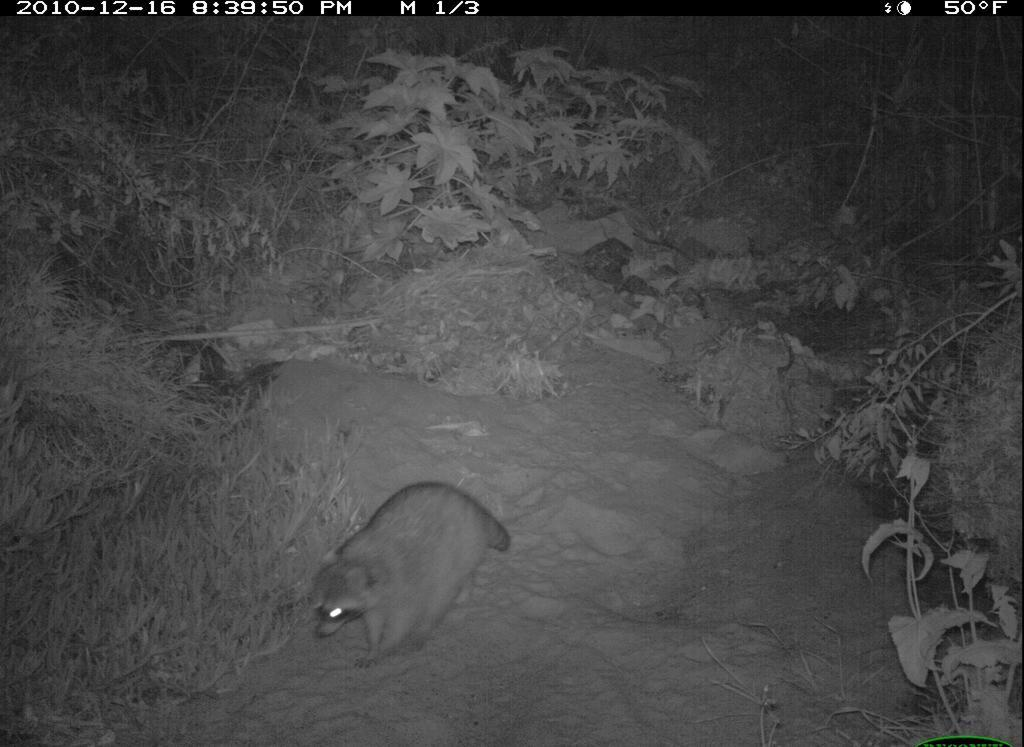raccoon: (304, 474, 530, 670)
